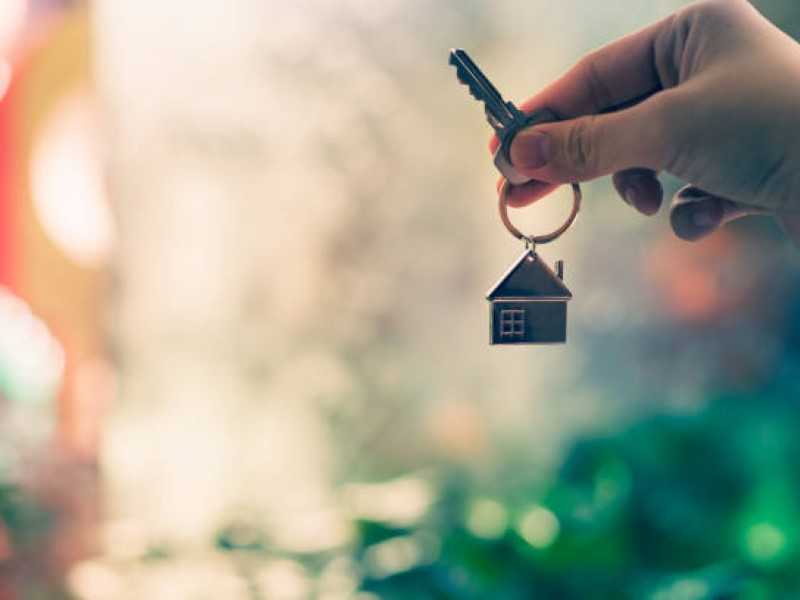key: (445, 44, 566, 191)
